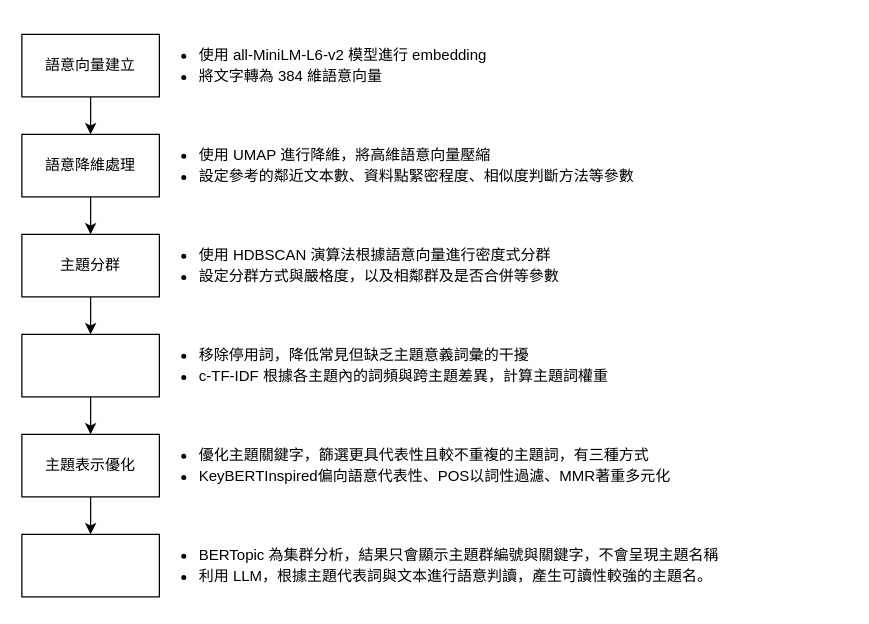
Some shapes in this 869 by 624 pixel diagram are drawn without their labels. Here are the shapes that lost their labels. From the top down, the box of each, then its label:
(21, 333, 159, 397): 主題詞權重計算
(21, 533, 159, 597): LLM 主題命名
